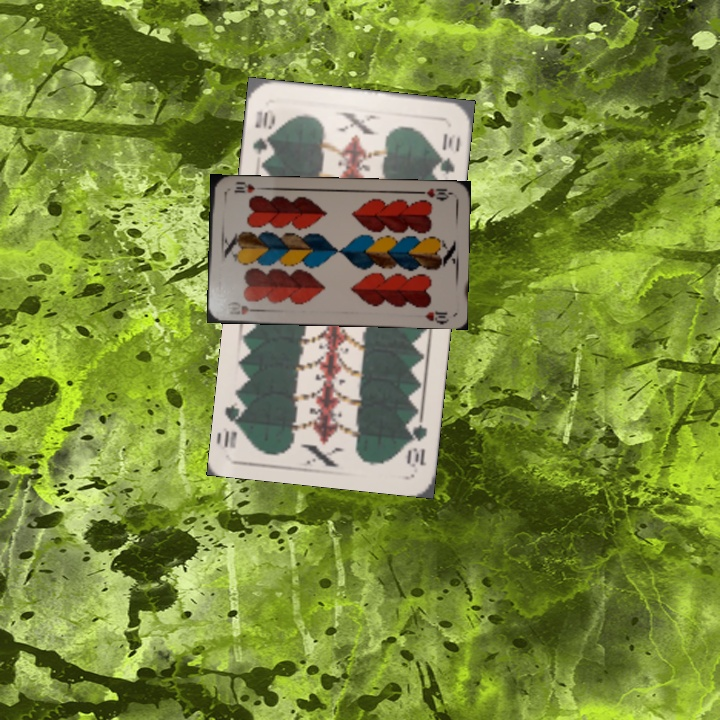G10: (402, 411, 430, 470), (248, 105, 278, 157)
H10: (414, 184, 454, 203), (225, 301, 263, 317)
